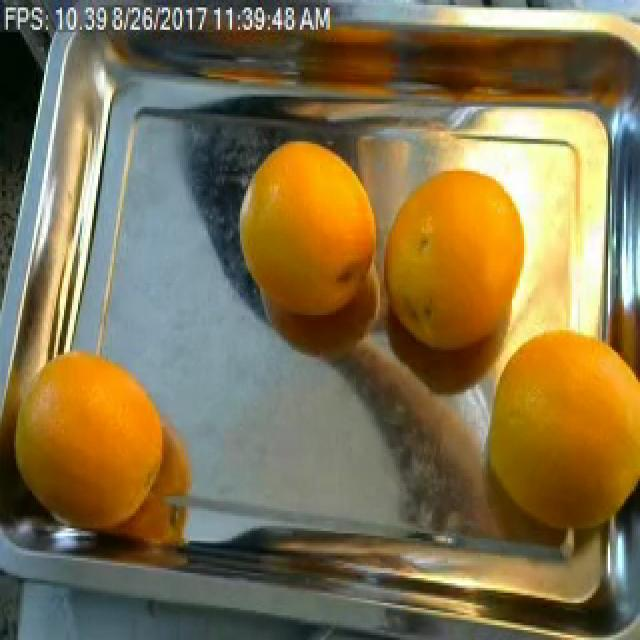Fruit: (220, 124, 388, 332)
